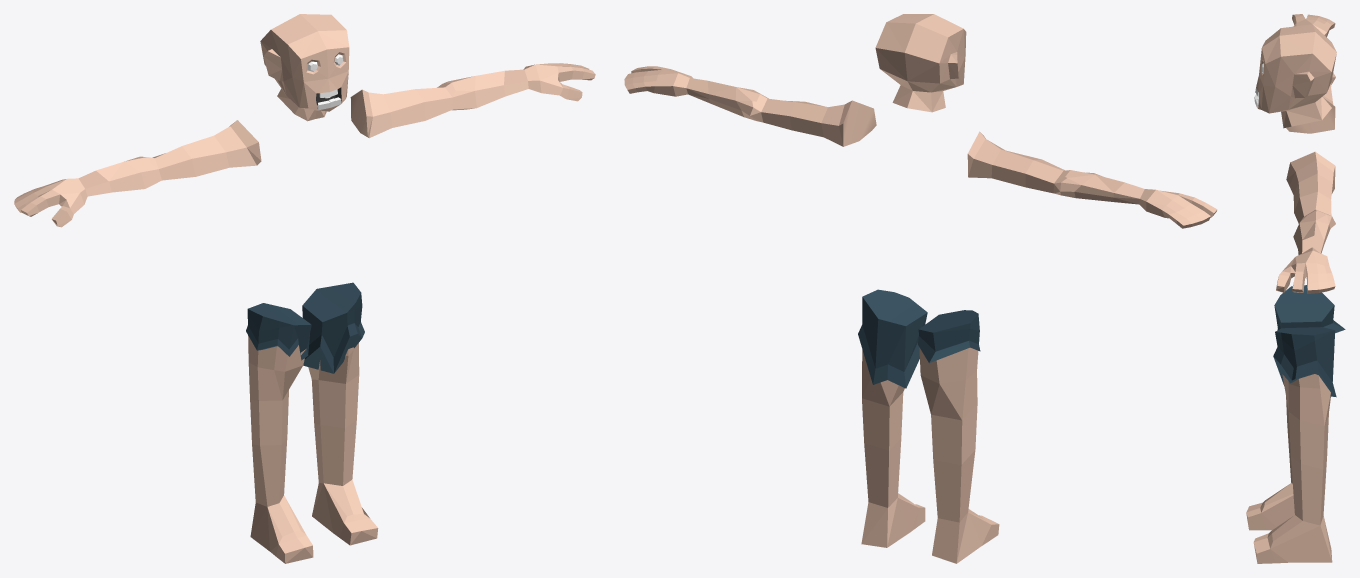
Rendered from ZombieLimbs.fbx.
3 renders of one model, left to right at view 1: azimuth 30°, elevation 25°; view 2: azimuth 150°, elevation 25°; view 3: azimuth 270°, elevation 25°, orthographic. The views are drawn at different scales.
Visible parts, largest first — view 1: polySurface25, polySurface24, polySurface21, polySurface22, head3; view 2: polySurface24, polySurface25, polySurface22, polySurface21, head3; view 3: polySurface25, head3, polySurface22, polySurface24, polySurface21.
Boxes of the visible parts, bbox=[...] form: polySurface25: bbox=[302, 282, 378, 545]; polySurface24: bbox=[246, 303, 313, 563]; polySurface21: bbox=[14, 120, 261, 227]; polySurface22: bbox=[350, 63, 595, 138]; head3: bbox=[260, 14, 349, 121]; polySurface24: bbox=[918, 310, 999, 563]; polySurface25: bbox=[858, 289, 927, 547]; polySurface22: bbox=[624, 66, 876, 146]; polySurface21: bbox=[967, 131, 1217, 228]; head3: bbox=[875, 14, 966, 112]; polySurface25: bbox=[1253, 327, 1336, 563]; head3: bbox=[1254, 24, 1336, 128]; polySurface22: bbox=[1276, 151, 1335, 293]; polySurface24: bbox=[1246, 285, 1345, 530]; polySurface21: bbox=[1286, 14, 1335, 133].
Bounding box in the file's own units: 2.35 × 2.03 × 0.3588.
